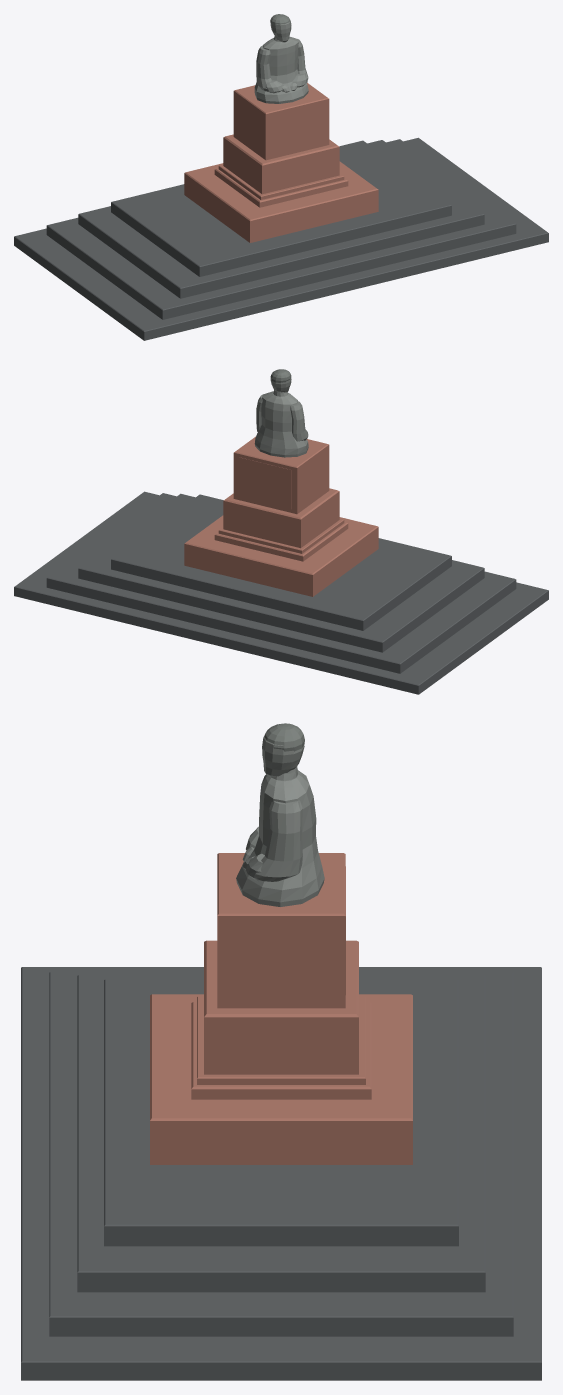
The model's file is statue-lod.glb.
3 renders of one model, top to bottom at view 1: azimuth 30°, elevation 25°; view 2: azimuth 150°, elevation 25°; view 3: azimuth 270°, elevation 25°, orthographic. The views are drawn at different scales.
Parts seen in each view (by area): view 1: statue-lod; view 2: statue-lod; view 3: statue-lod.
Part boxes in pixels (x1,y1,x2,y2): statue-lod: (14,14,548,340); statue-lod: (14,369,548,694); statue-lod: (21,723,541,1380).
Size of the model in its own units: 6.64 by 3.57 by 3.7.
